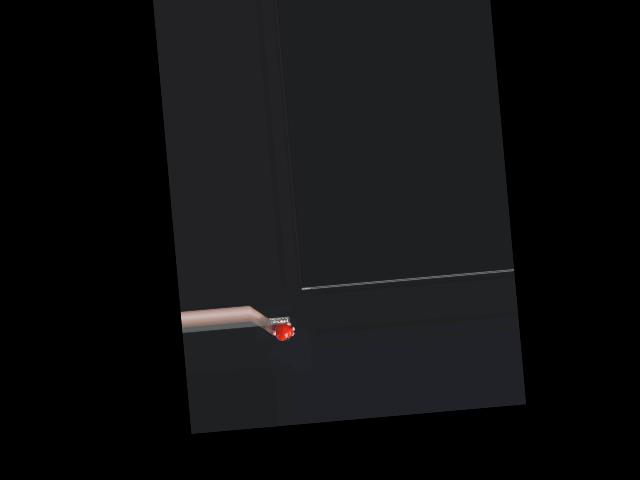tomato: (274, 322, 293, 341)
